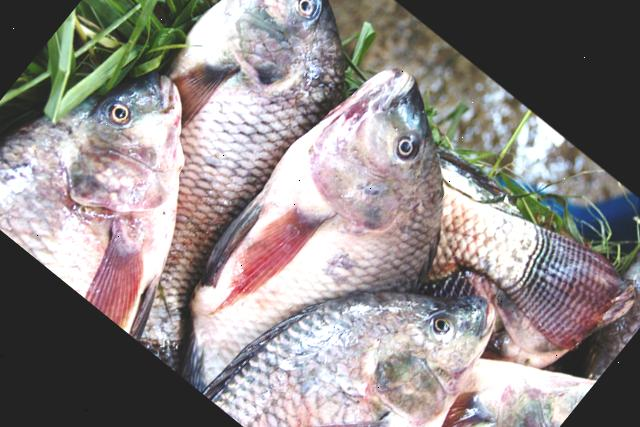Tilapia Lake Virus -TiLV-: (183, 69, 443, 390), (0, 72, 185, 337)
